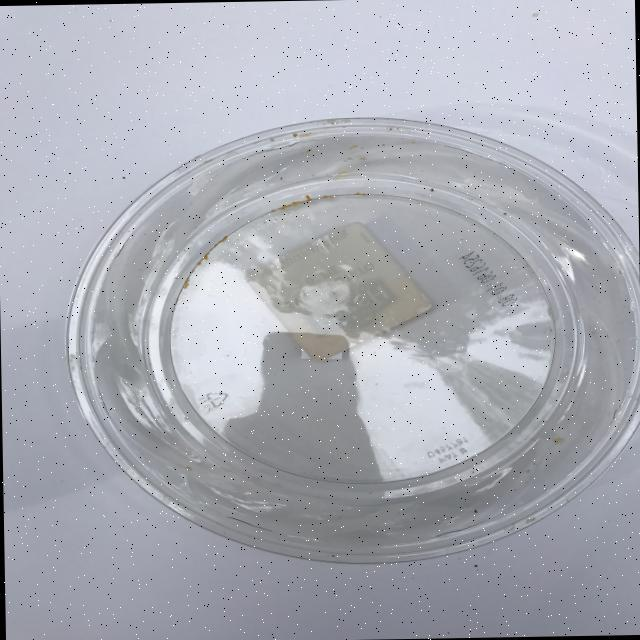plastic: (61, 110, 640, 568)
